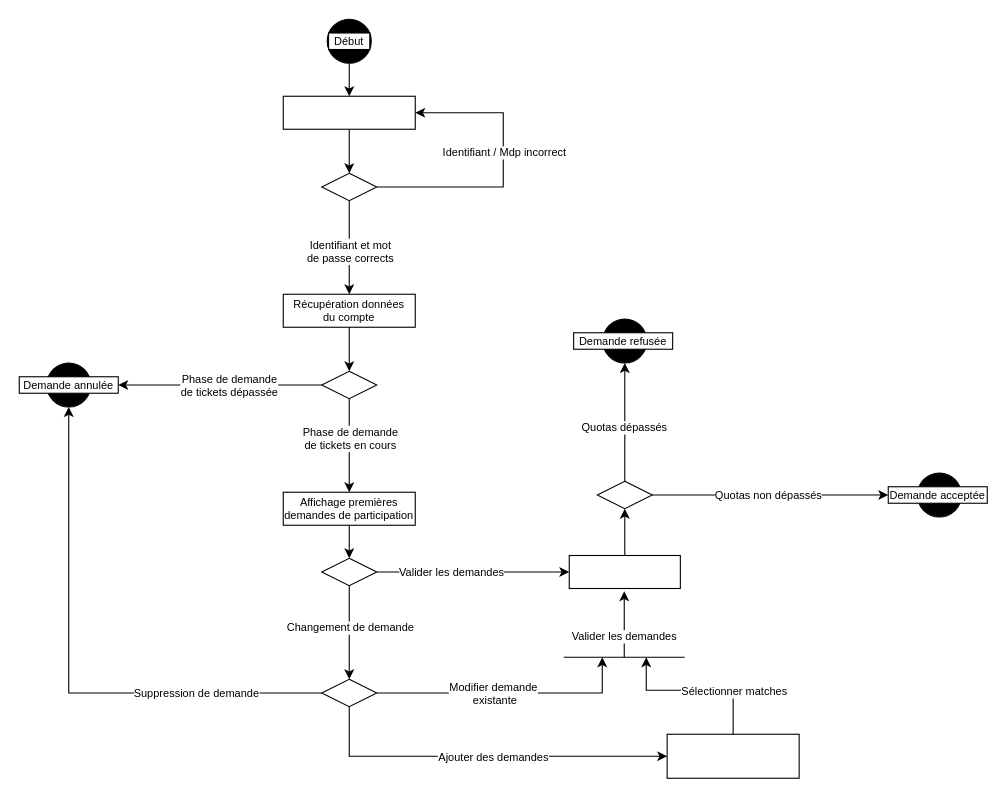
Image size: 1007x798. Some labels were removed from this diagram. Each missing label, with the centre of its shape:
Affichage des matches disponibles (places restantes): pixel 732 755
Affichage du statut de la demande: pixel 624 571
Connexion à l'espace média: pixel 348 112
